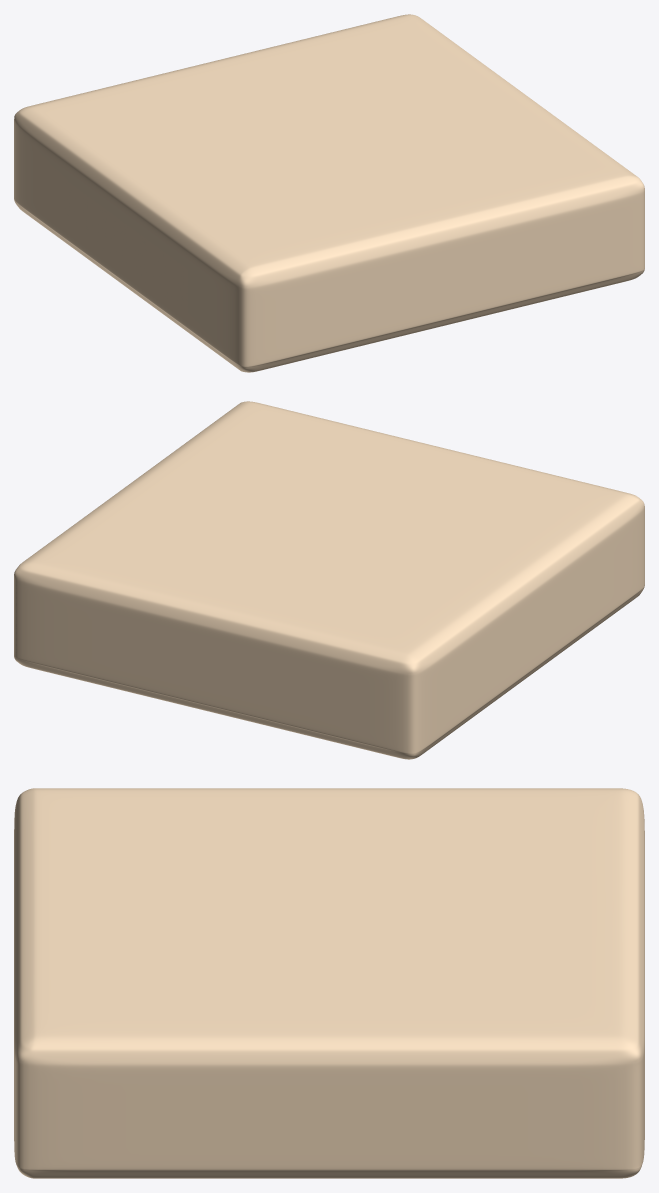
The model's file is BOXTile.fbx.
3 renders of one model, top to bottom at view 1: azimuth 30°, elevation 25°; view 2: azimuth 150°, elevation 25°; view 3: azimuth 270°, elevation 25°, orthographic. The views are drawn at different scales.
Parts seen in each view (by area): view 1: Cube; view 2: Cube; view 3: Cube.
Part boxes in pixels (<box>): Cube: <box>14,14,644,372</box>; Cube: <box>14,401,644,759</box>; Cube: <box>14,788,644,1178</box>.
Bounding box in the file's own units: 200 × 49.31 × 200.
